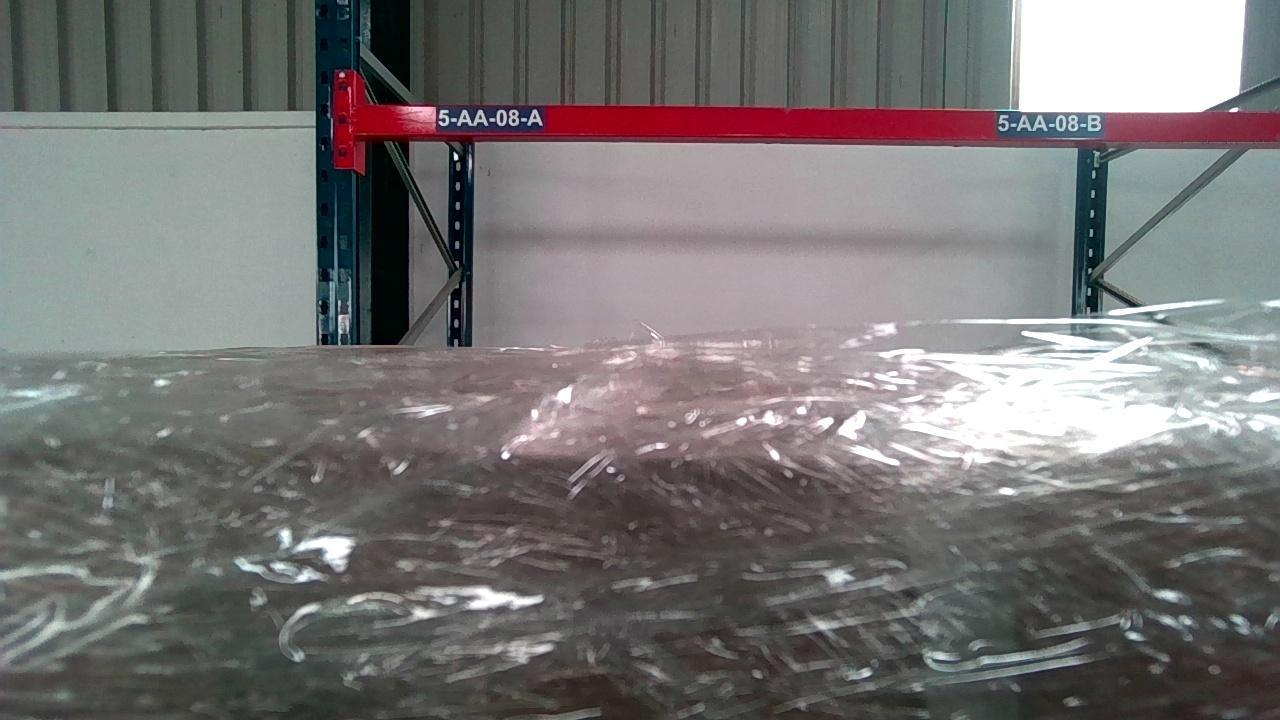h_rack: (354, 98, 1277, 141)
